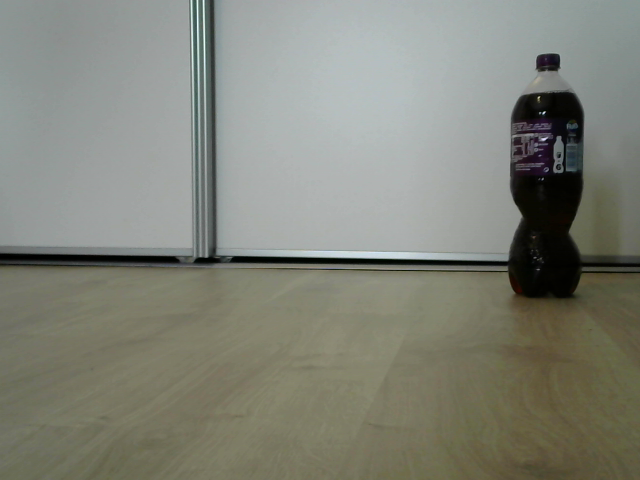bottle: (509, 53, 585, 300)
